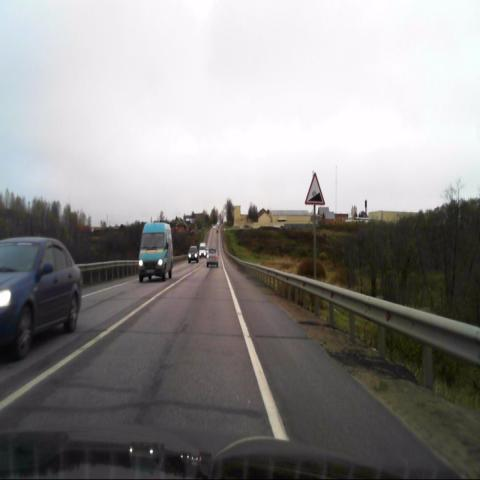1_14: (304, 172, 324, 205)
